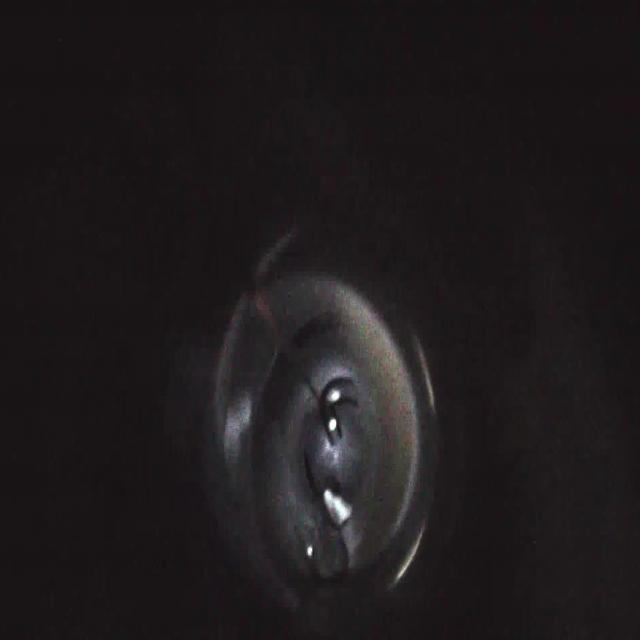impurity: (308, 522, 354, 580), (316, 483, 352, 525)
